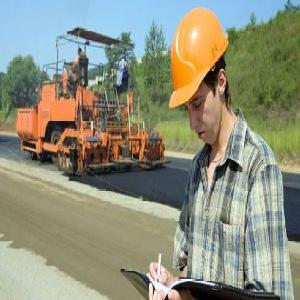yellow: (170, 3, 234, 153)
